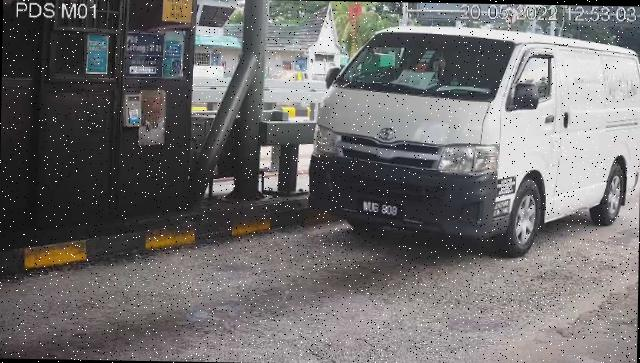License_Plate: (358, 196, 406, 224)
van: (307, 25, 640, 260)
